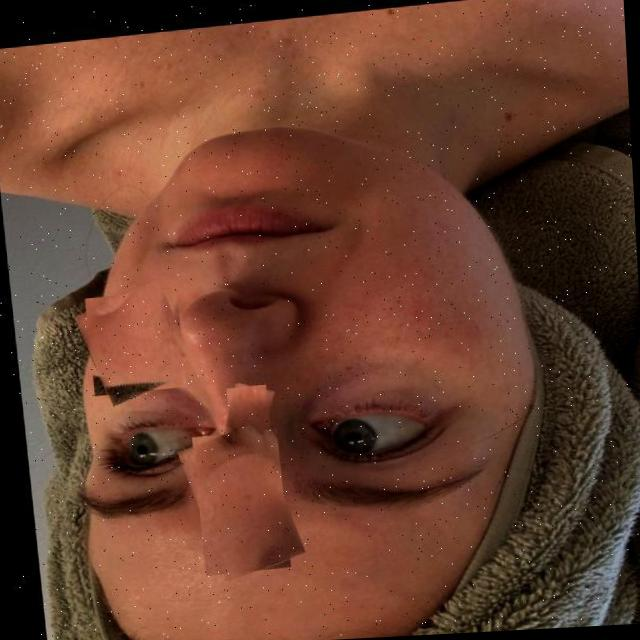redness: (173, 418, 300, 578), (70, 275, 193, 400), (219, 379, 271, 444)
